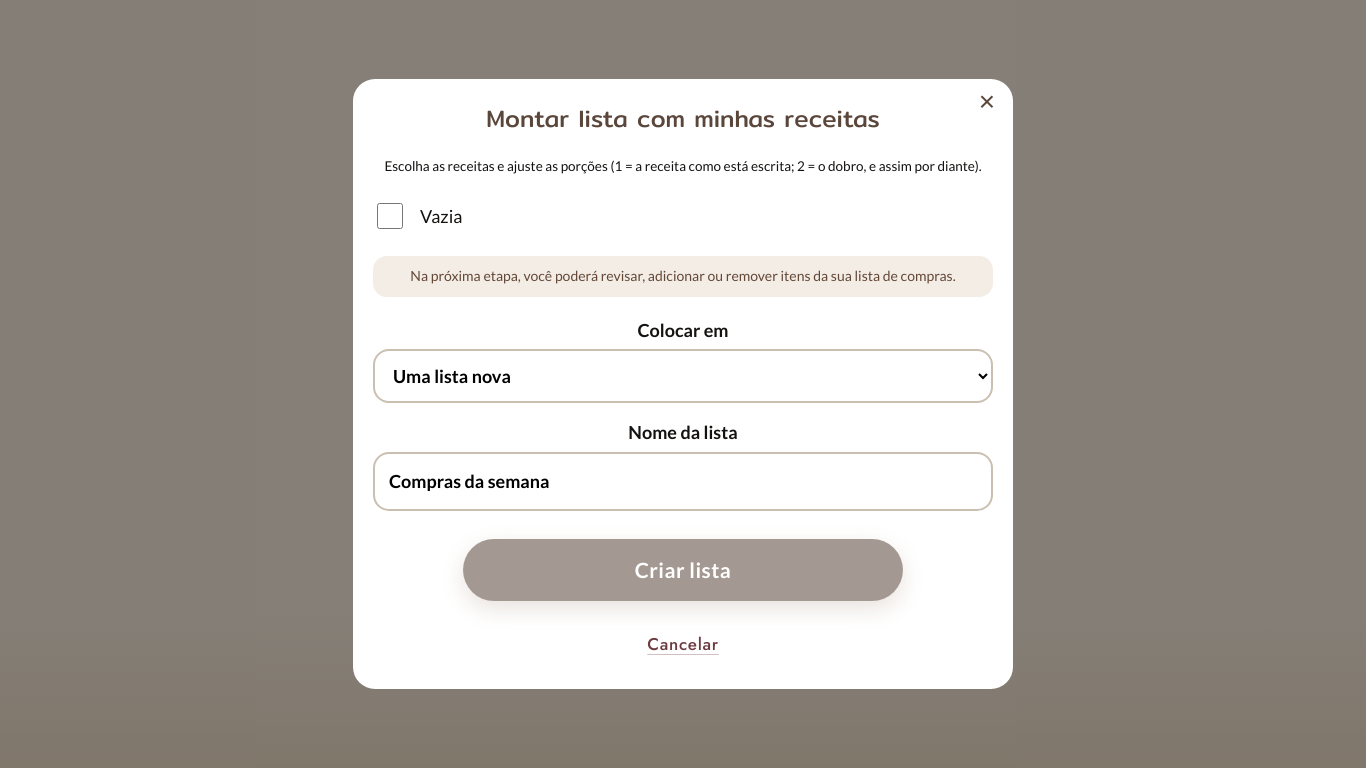
Test: Montar lista com minhas receitas › receita sem ingredientes escritos avisa e não deixa criar lista vazia
Click the checkbox labelled "Vazia": (390, 216) x1=377 y1=203 x2=403 y2=229
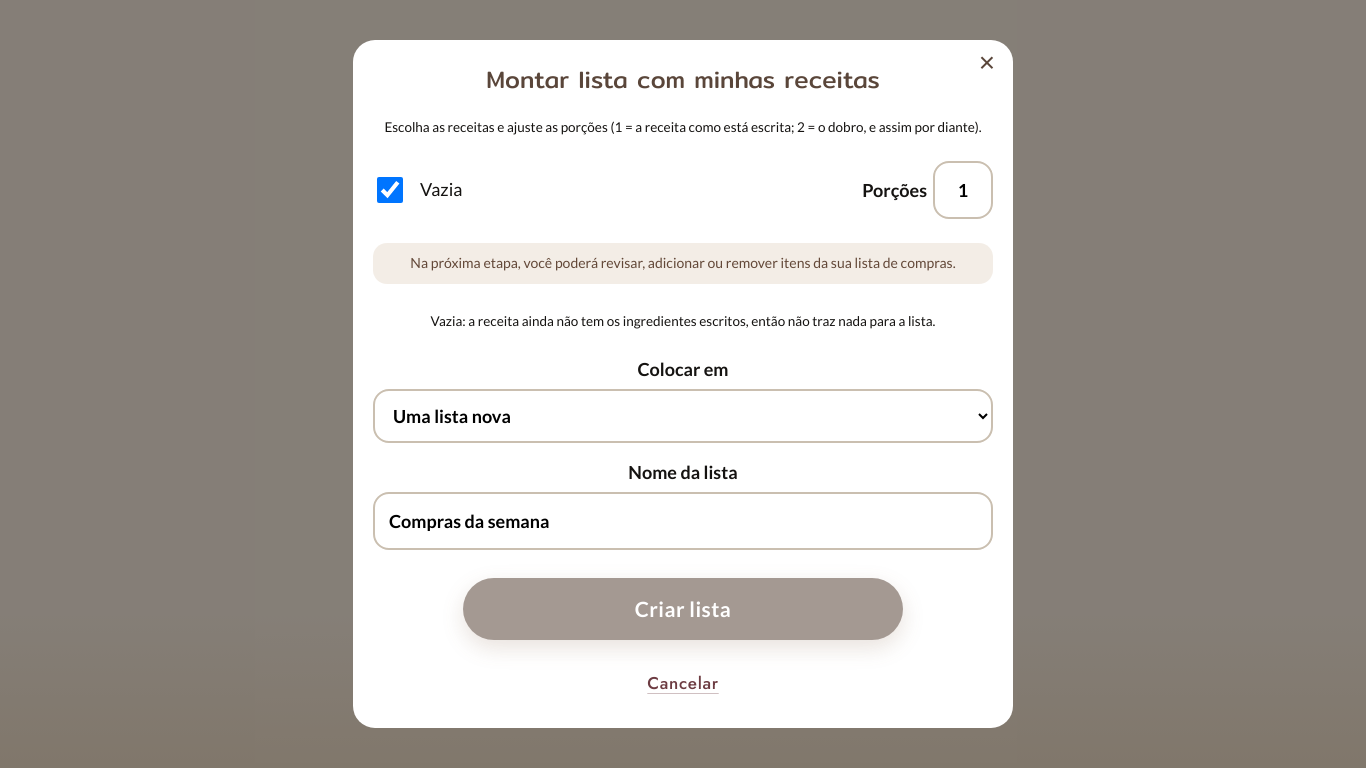
Expected: the button "Criar lista" is disabled, x1=463 y1=578 x2=903 y2=640
Now the text "ainda não tem os ingredientes" is shown, box x1=462 y1=312 x2=936 y2=328
